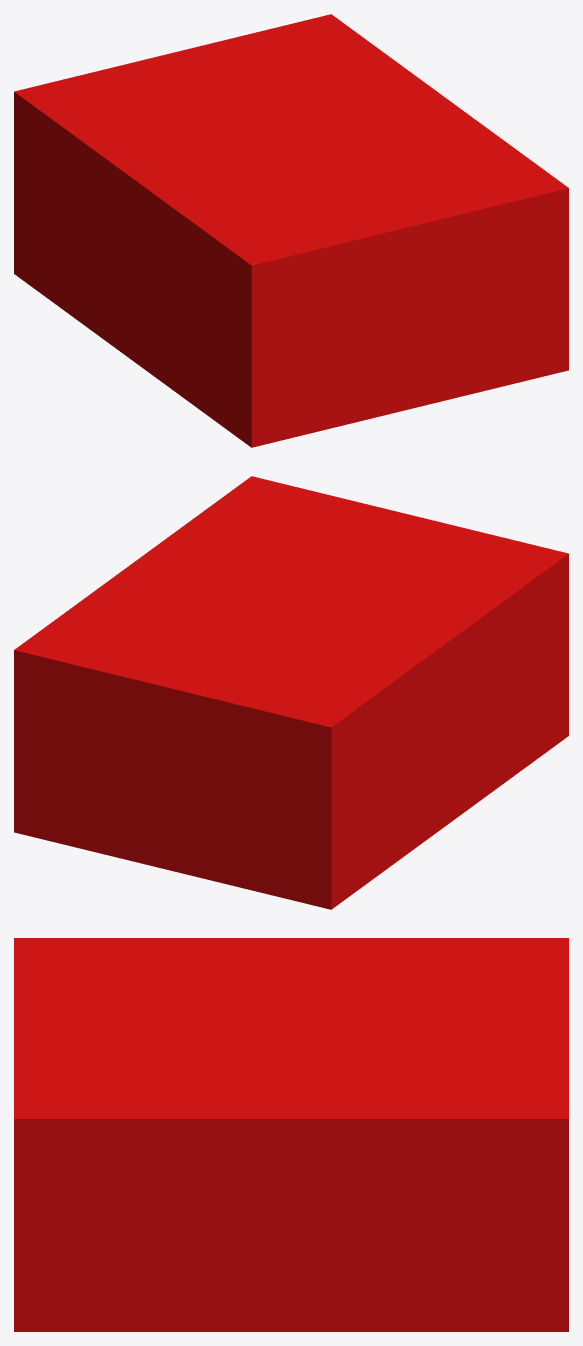
The model's file is Power_Button.fbx.
The picture shows the model from 3 angles, top to bottom: view 1: azimuth 30°, elevation 25°; view 2: azimuth 150°, elevation 25°; view 3: azimuth 270°, elevation 25°; orthographic projection. The views are drawn at different scales.
Parts seen in each view (by area): view 1: Cube.013; view 2: Cube.013; view 3: Cube.013.
Boxes of the visible parts, x1,y1,x2,y2 form: Cube.013: (14, 14, 568, 447); Cube.013: (14, 476, 568, 909); Cube.013: (14, 938, 568, 1331).
Bounding box in the file's own units: 102 × 56 × 132.
